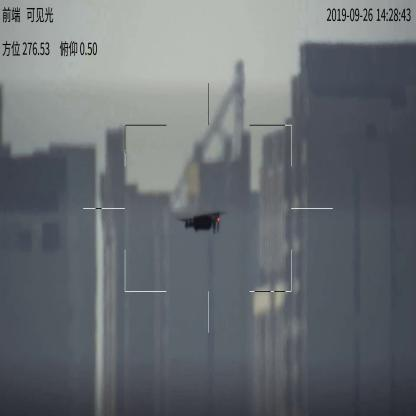uav: (176, 211, 226, 234)
